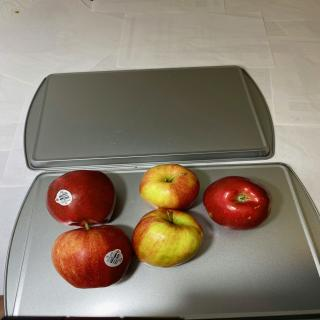Apple: (51, 221, 132, 289), (131, 208, 204, 268), (46, 170, 116, 227), (203, 176, 273, 230), (139, 163, 200, 210)
